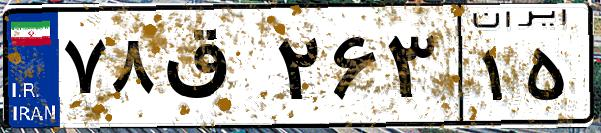1: (475, 38, 525, 113)
2: (270, 28, 330, 110)
3: (385, 28, 445, 110)
5: (525, 38, 570, 115)
6: (330, 28, 385, 110)
7: (57, 26, 110, 100)
8: (110, 28, 158, 98)
ق: (158, 20, 270, 120)
